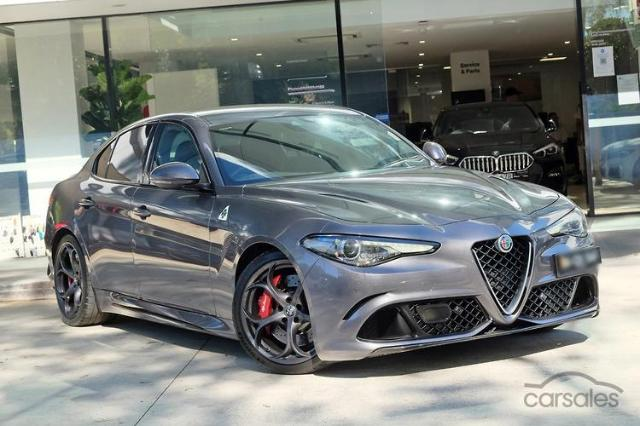alpha-romeo: (43, 103, 602, 375)
